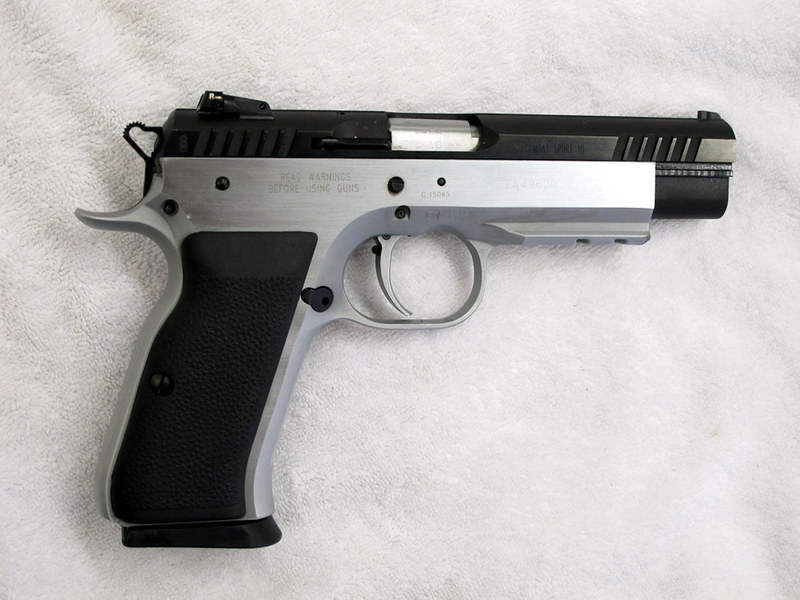gun: (69, 86, 747, 559)
